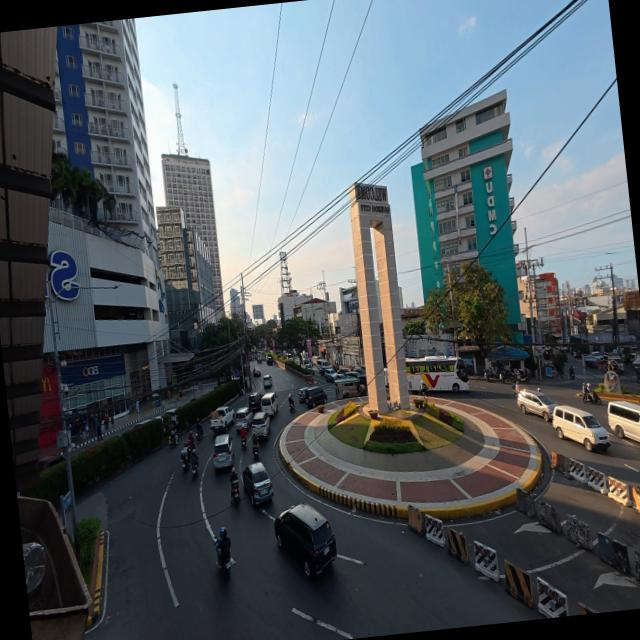Jeepneys: (334, 377, 362, 399)
bus: (405, 356, 468, 392)
car: (274, 504, 336, 577), (552, 406, 609, 451), (241, 463, 272, 505), (517, 390, 556, 421), (212, 434, 233, 470), (234, 407, 253, 431), (251, 412, 269, 437), (38, 454, 64, 471), (247, 392, 261, 412), (296, 386, 309, 404), (324, 369, 338, 382), (262, 374, 273, 389), (318, 366, 332, 377), (590, 350, 604, 360), (346, 370, 359, 379), (358, 372, 366, 386), (266, 354, 274, 366), (354, 367, 365, 375), (337, 368, 349, 375), (252, 367, 260, 377), (256, 354, 260, 363), (282, 351, 287, 358)
motorcycle: (216, 553, 230, 579), (582, 391, 601, 405), (180, 447, 189, 473), (232, 480, 240, 504), (513, 380, 522, 396), (190, 462, 199, 478), (168, 435, 179, 448), (418, 382, 428, 396), (251, 443, 258, 461), (483, 369, 493, 381), (195, 427, 203, 441), (568, 368, 574, 380), (289, 400, 294, 412), (241, 437, 245, 450)
trucks: (209, 406, 233, 434)
vans: (607, 402, 639, 441), (302, 386, 326, 407), (261, 393, 277, 415), (316, 360, 328, 371)
